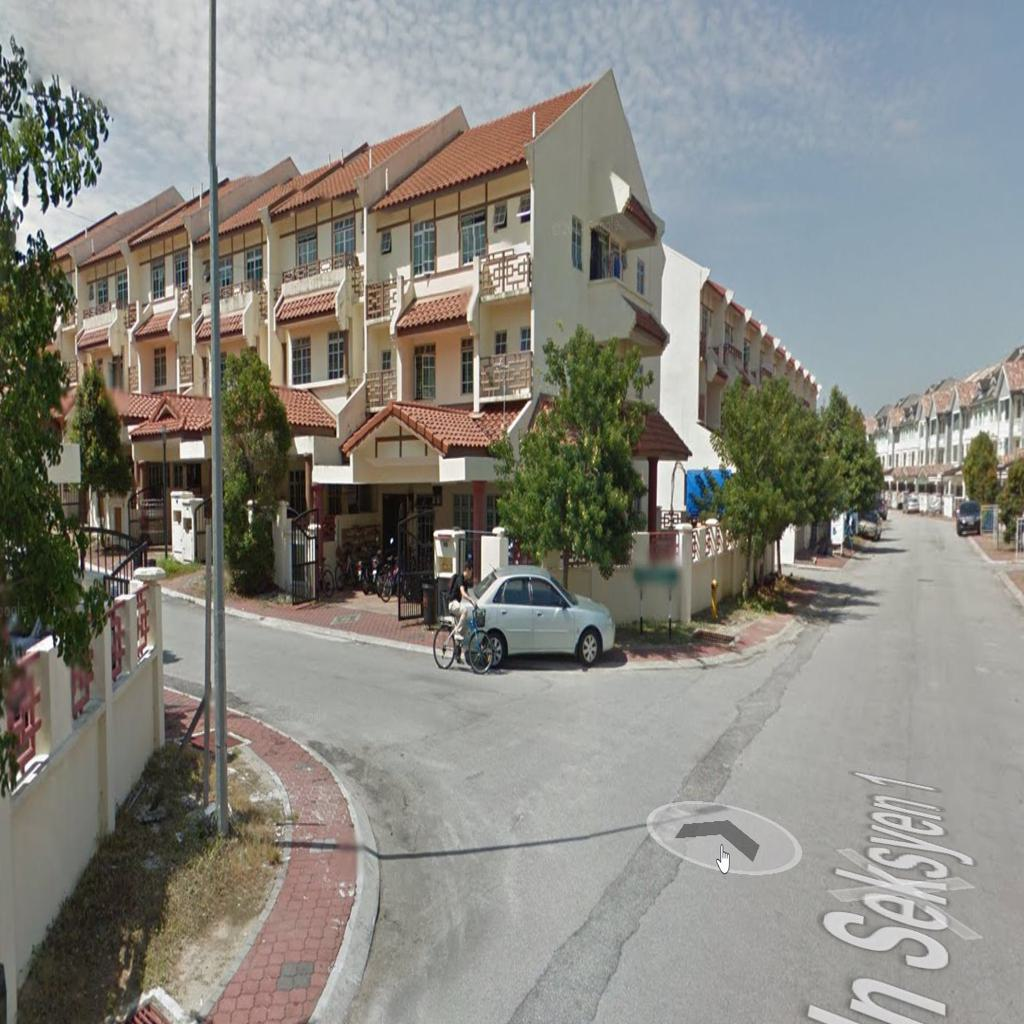Junction: (270, 625, 686, 906)
